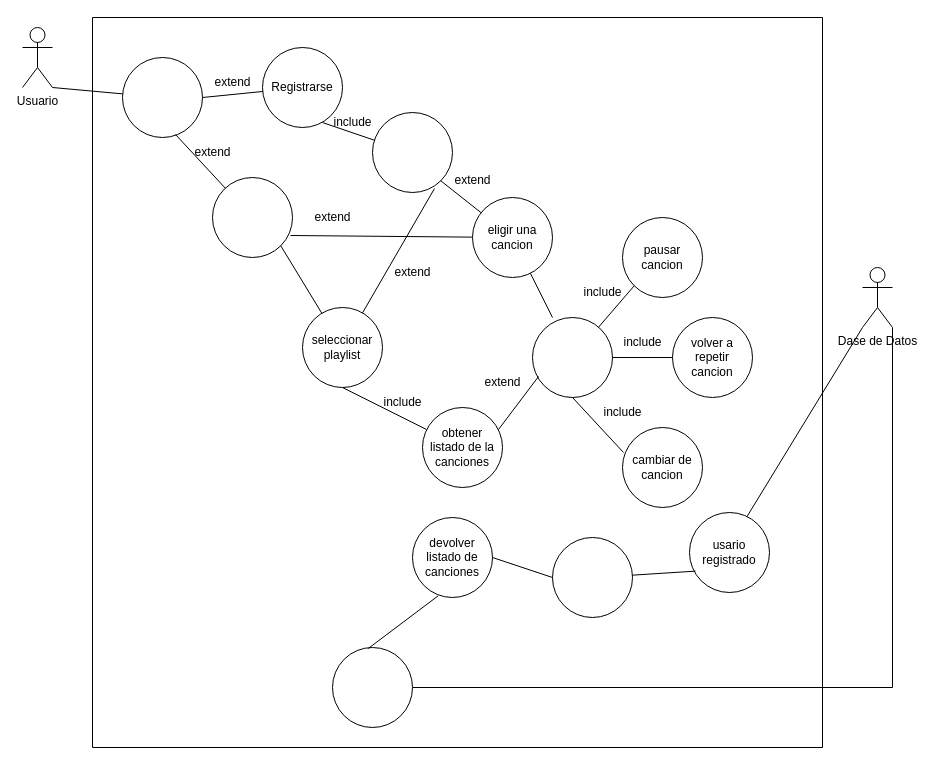
The diagram is 934 pixels wide and 765 high, and some of its shapes have lost their labels. The box of each missing label's shape, as (x1, y1, x2, y2) in pixels:
Ingresa a la pagina: (122, 56, 202, 138)
Loguearse: (212, 176, 292, 258)
mostrar un inicio adaptado a sus gustos: (552, 536, 632, 618)
reproducir musica elegida: (332, 646, 412, 728)
reproducir una cancion: (532, 316, 612, 398)
seleccionar gustos musicales: (372, 112, 452, 192)
